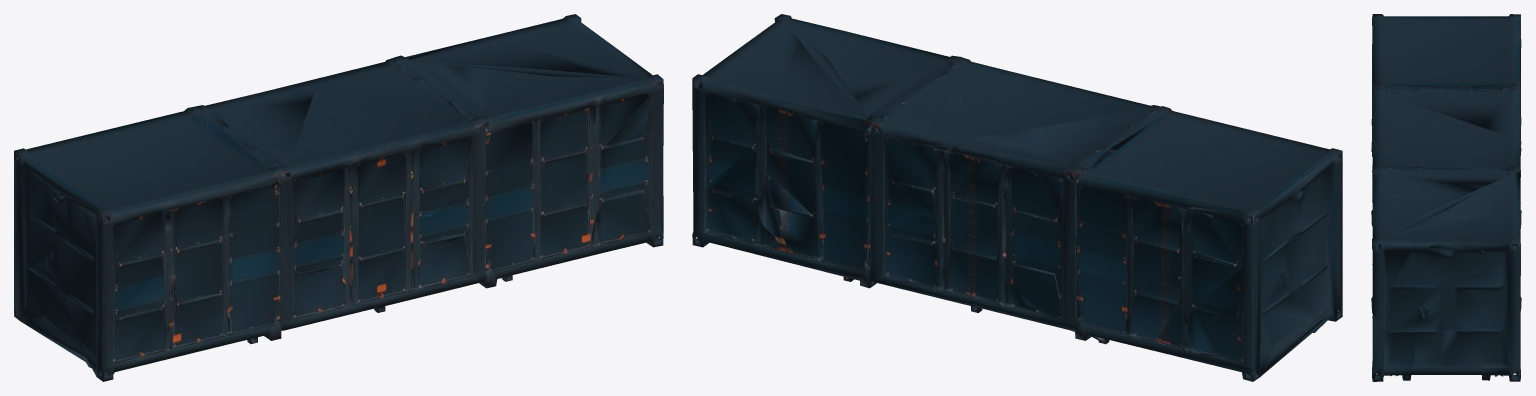
The model's file is glitchyard_wall.glb.
3 views of the same model, side by side, from view 1: azimuth 30°, elevation 25°; view 2: azimuth 150°, elevation 25°; view 3: azimuth 270°, elevation 25° (orthographic). The views are drawn at different scales.
Bounding box in the file's own units: 1.9 × 0.5448 × 0.5231.
Materials: 1 (1 with a texture image).
